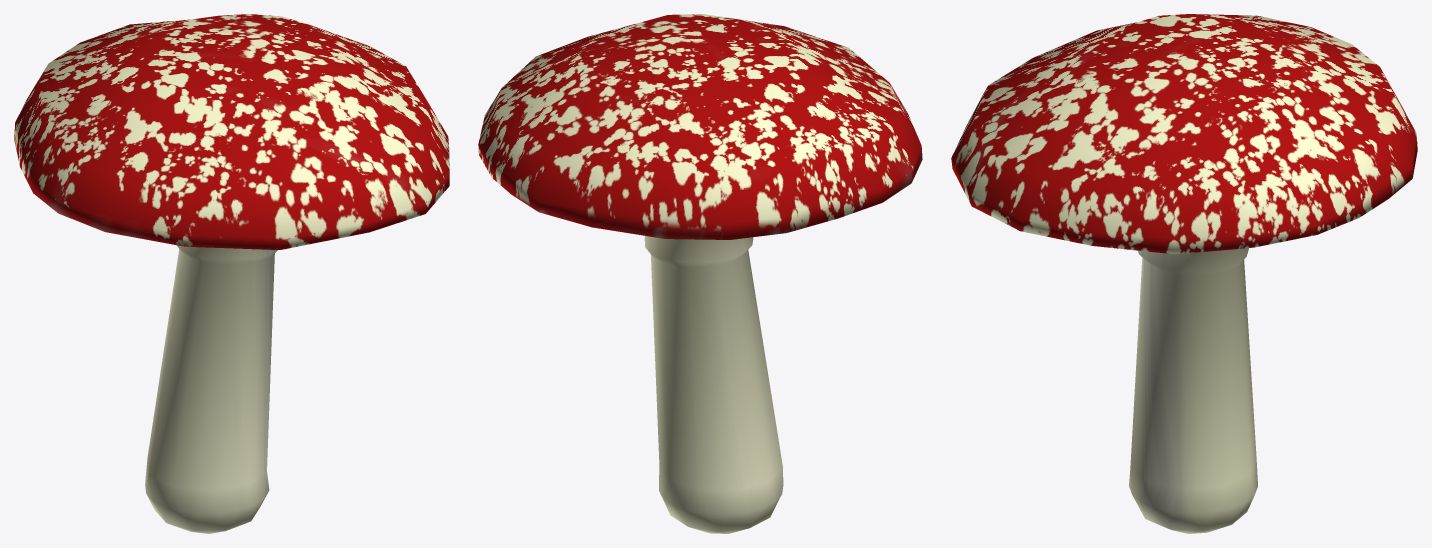
File: SetaVenenosa.fbx
The picture shows the model from 3 angles, left to right: view 1: azimuth 30°, elevation 25°; view 2: azimuth 150°, elevation 25°; view 3: azimuth 270°, elevation 25°; orthographic projection. The views are drawn at different scales.
Parts seen in each view (by area): view 1: Mushroom_2; view 2: Mushroom_2; view 3: Mushroom_2.
Boxes of the visible parts, x1,y1,x2,y2 form: Mushroom_2: (14, 14, 449, 533); Mushroom_2: (478, 14, 922, 533); Mushroom_2: (951, 14, 1417, 533).
Size of the model in its own units: 0.1164 by 0.1195 by 0.1386.
Materials: 2 (2 with a texture image).
